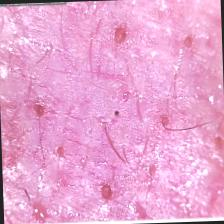Oily: (0, 3, 224, 221)
